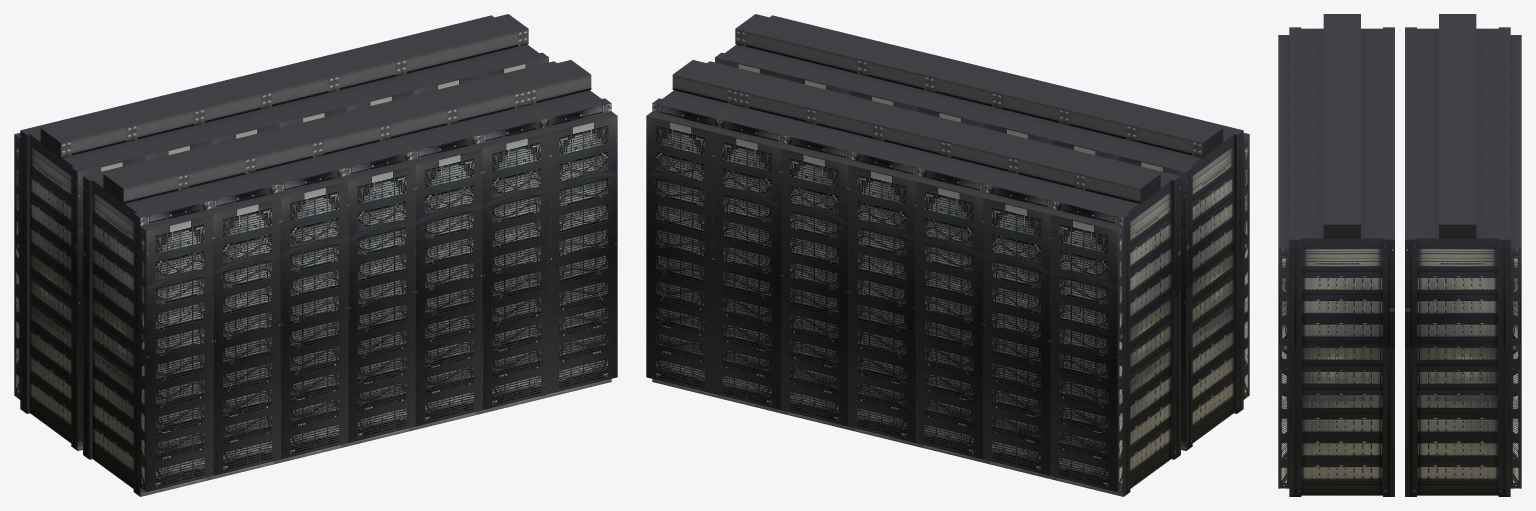
Rendered from battery_module03.gltf.
3 renders of one model, left to right at view 1: azimuth 30°, elevation 25°; view 2: azimuth 150°, elevation 25°; view 3: azimuth 270°, elevation 25°, orthographic. The views are drawn at different scales.
Visible parts, largest first — view 1: batteryModule; view 2: batteryModule; view 3: batteryModule.
Part boxes in pixels (bbox=[...]): batteryModule: bbox=[14, 14, 617, 496]; batteryModule: bbox=[646, 14, 1249, 496]; batteryModule: bbox=[1278, 14, 1521, 496].
Size of the model in its own units: 30.94 by 18.46 by 15.
Materials: 1 (1 with a texture image).
